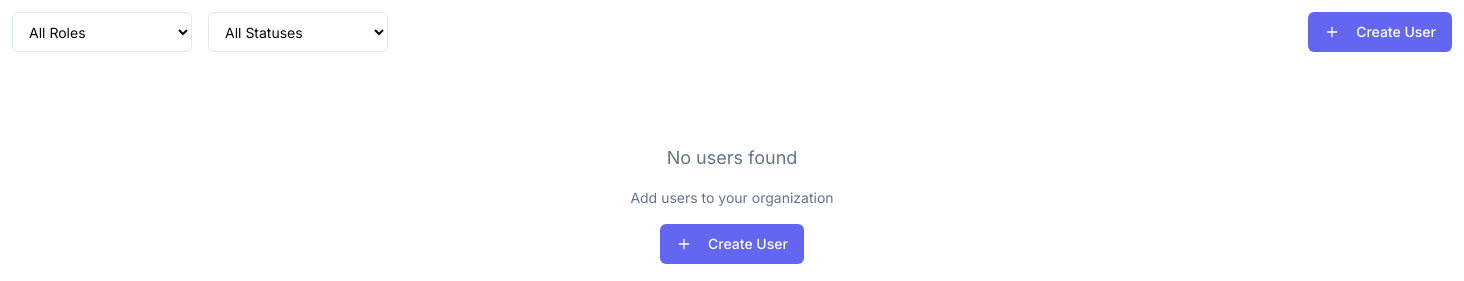
Test: UserList › should show different empty state message when filters are applied
Expected: the text "No users found" is shown, [667,144,797,172]
Select "Developer" in the 1st dropdown. click: (102,32)
box: [12,12,192,52]
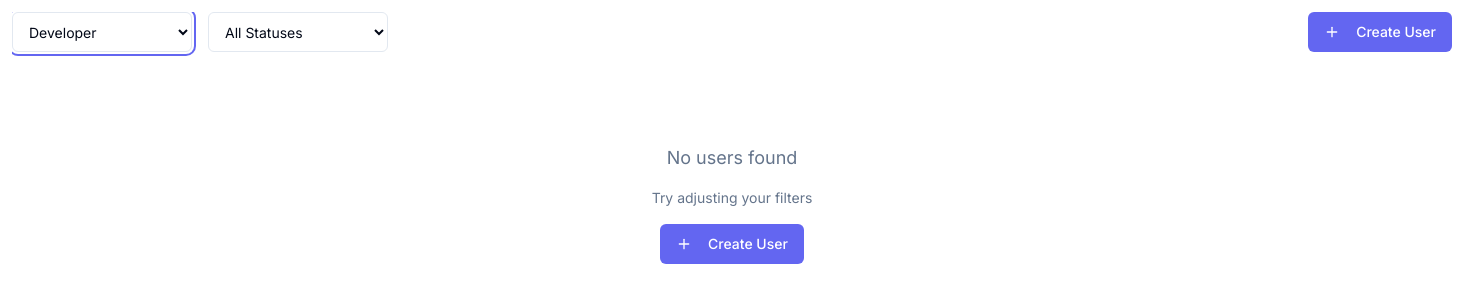
Result: the text "Try adjusting your filters" is shown at [652,188,812,208]
